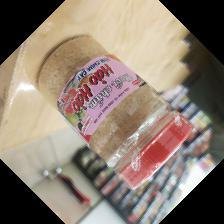Hao_hao: (36, 35, 192, 190)
